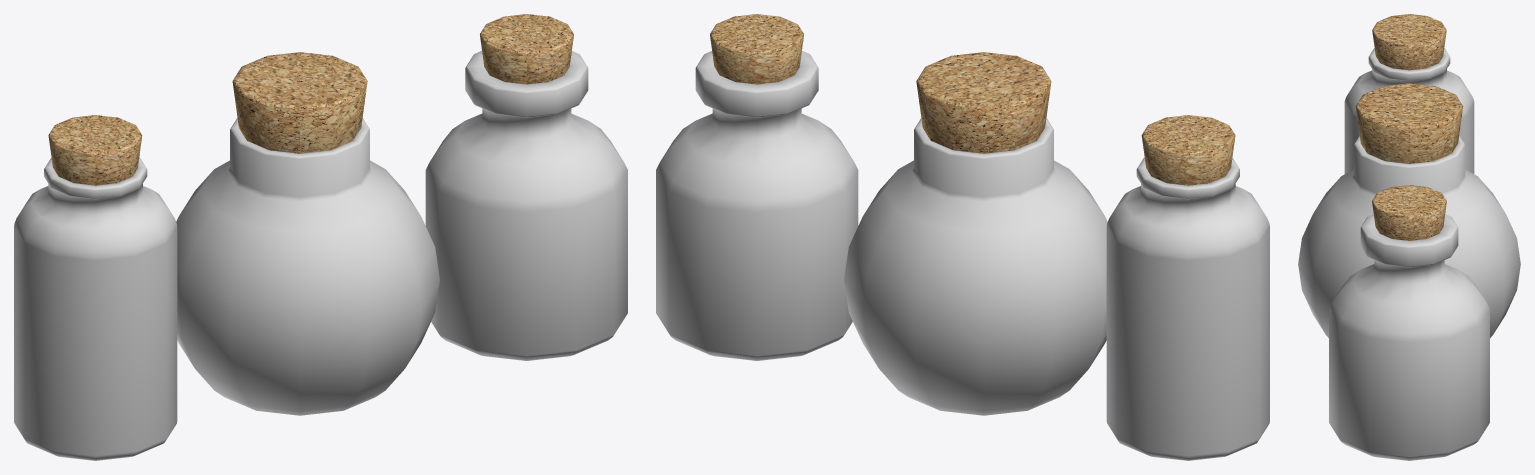
Rendered from Bottles.fbx.
3 views of the same model, side by side, from view 1: azimuth 30°, elevation 25°; view 2: azimuth 150°, elevation 25°; view 3: azimuth 270°, elevation 25° (orthographic). The views are drawn at different scales.
Parts seen in each view (by area): view 1: Bottle2, Bottle3, Bottle1, Cork2, Cork3, Cork1; view 2: Bottle2, Bottle3, Bottle1, Cork2, Cork3, Cork1; view 3: Bottle3, Bottle2, Cork2, Bottle1, Cork1, Cork3.
Part boxes in pixels (<box>): Bottle2: <box>176,118,439,415</box>; Bottle3: <box>425,51,627,360</box>; Bottle1: <box>14,157,177,460</box>; Cork2: <box>232,52,367,153</box>; Cork3: <box>480,14,573,84</box>; Cork1: <box>48,115,142,185</box>; Bottle2: <box>844,118,1107,415</box>; Bottle3: <box>656,51,858,360</box>; Bottle1: <box>1106,157,1269,460</box>; Cork2: <box>916,52,1051,153</box>; Cork3: <box>710,14,803,84</box>; Cork1: <box>1141,115,1235,185</box>; Bottle3: <box>1329,214,1489,460</box>; Bottle2: <box>1298,136,1520,337</box>; Cork2: <box>1355,83,1463,163</box>; Bottle1: <box>1344,48,1474,173</box>; Cork1: <box>1372,14,1446,70</box>; Cork3: <box>1372,185,1446,240</box>.
Bounding box in the file's own units: 495 × 241 × 204.
